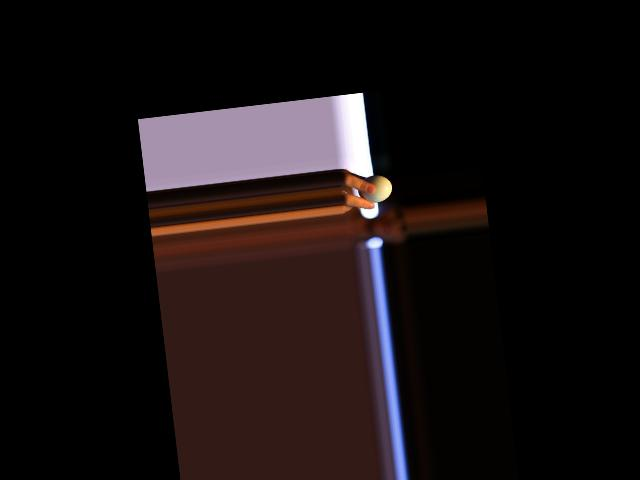egg: (356, 174, 393, 205)
